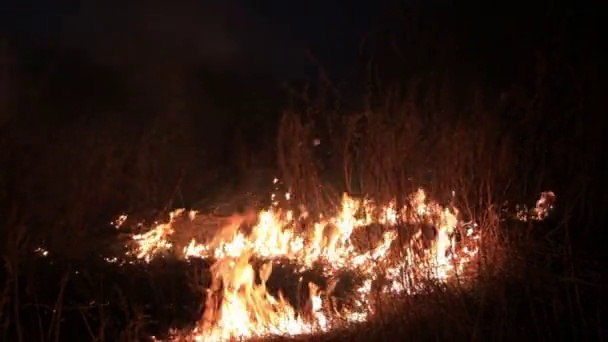fire: (189, 189, 480, 342), (136, 215, 172, 257), (531, 189, 555, 219)
